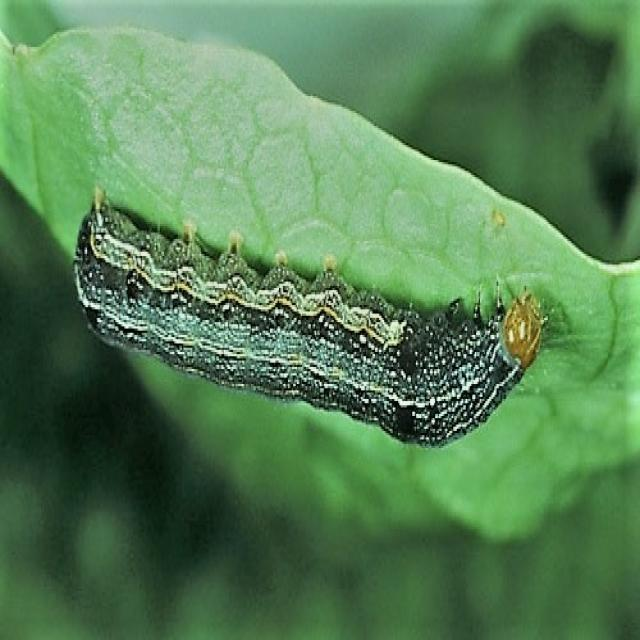armyworm: (71, 183, 546, 448)
